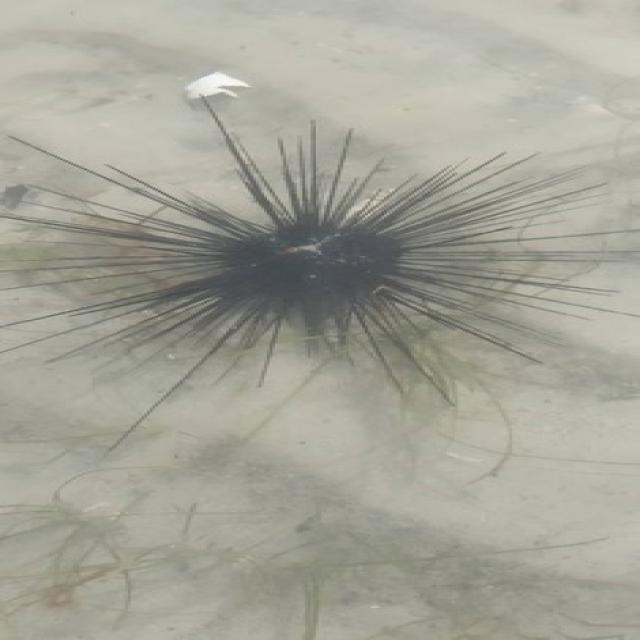Urchin: (2, 96, 640, 455)
